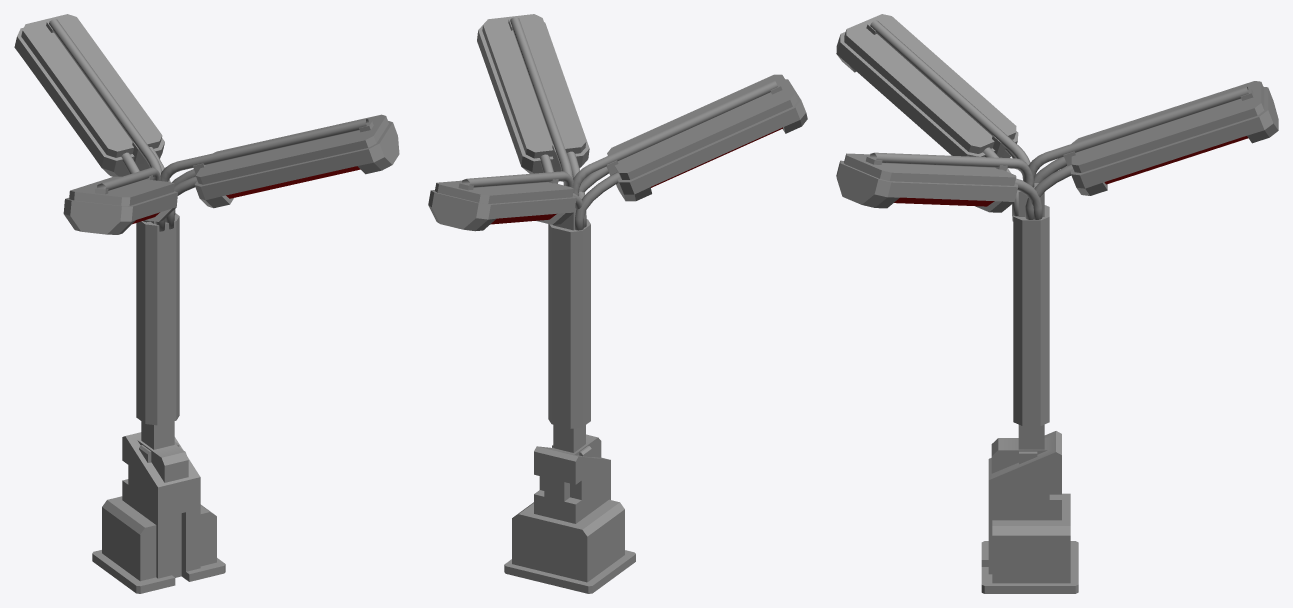
File: M_prop_lamp_pole_triple.FBX
3 renders of one model, left to right at view 1: azimuth 30°, elevation 25°; view 2: azimuth 150°, elevation 25°; view 3: azimuth 270°, elevation 25°, orthographic. The views are drawn at different scales.
Visible parts, largest first — view 1: M_prop_lamp_pole_triple; view 2: M_prop_lamp_pole_triple; view 3: M_prop_lamp_pole_triple.
Part boxes in pixels (left/top/right/bottom): M_prop_lamp_pole_triple: left=14, top=14, right=399, bottom=593; M_prop_lamp_pole_triple: left=428, top=14, right=807, bottom=593; M_prop_lamp_pole_triple: left=836, top=14, right=1278, bottom=593.
Size of the model in its own units: 364 by 412 by 499.
